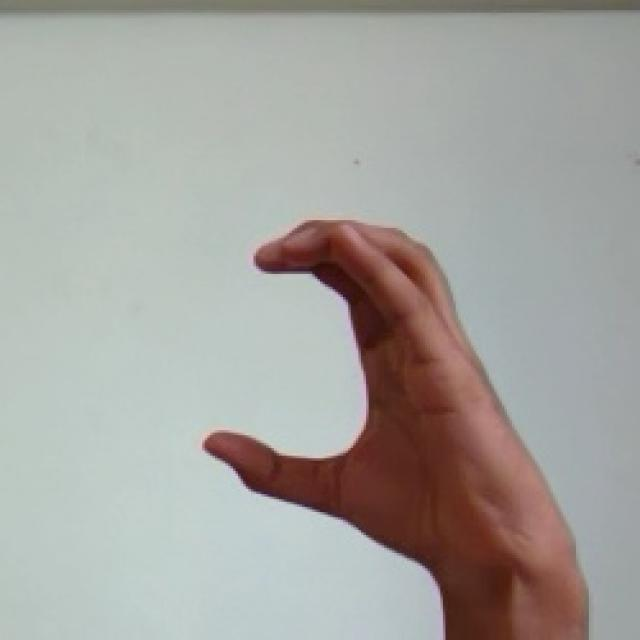Alphabet-C: (205, 220, 589, 640)
